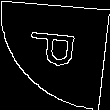P_E: (25, 33, 85, 77)
